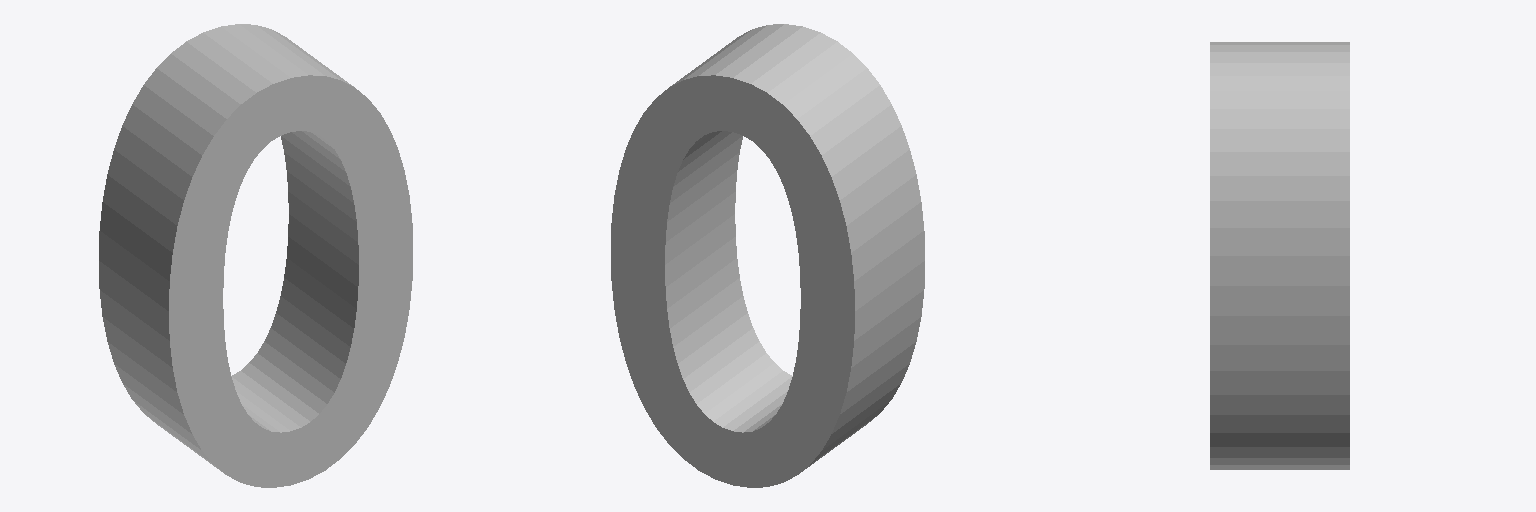
Rendered from cerov.obj.
3 renders of one model, left to right at view 1: azimuth 30°, elevation 25°; view 2: azimuth 150°, elevation 25°; view 3: azimuth 270°, elevation 25°, orthographic.
Size of the model in its own units: 0.44 by 0.7 by 0.2187.